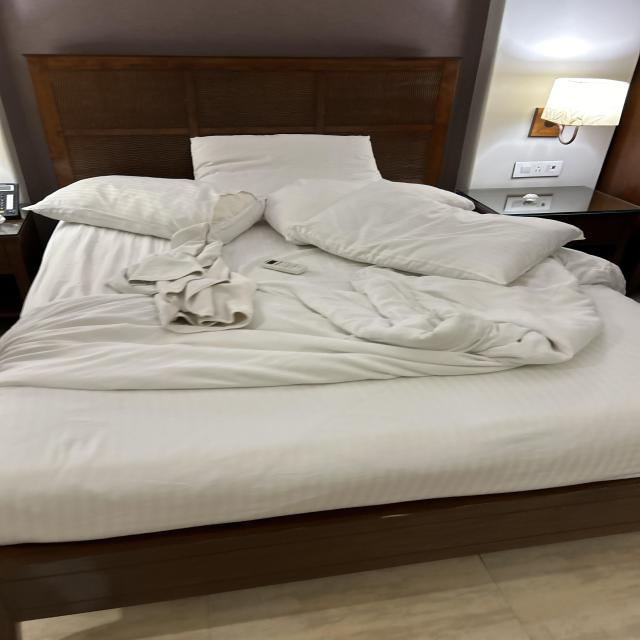mess: (34, 189, 640, 459), (451, 144, 640, 223)
